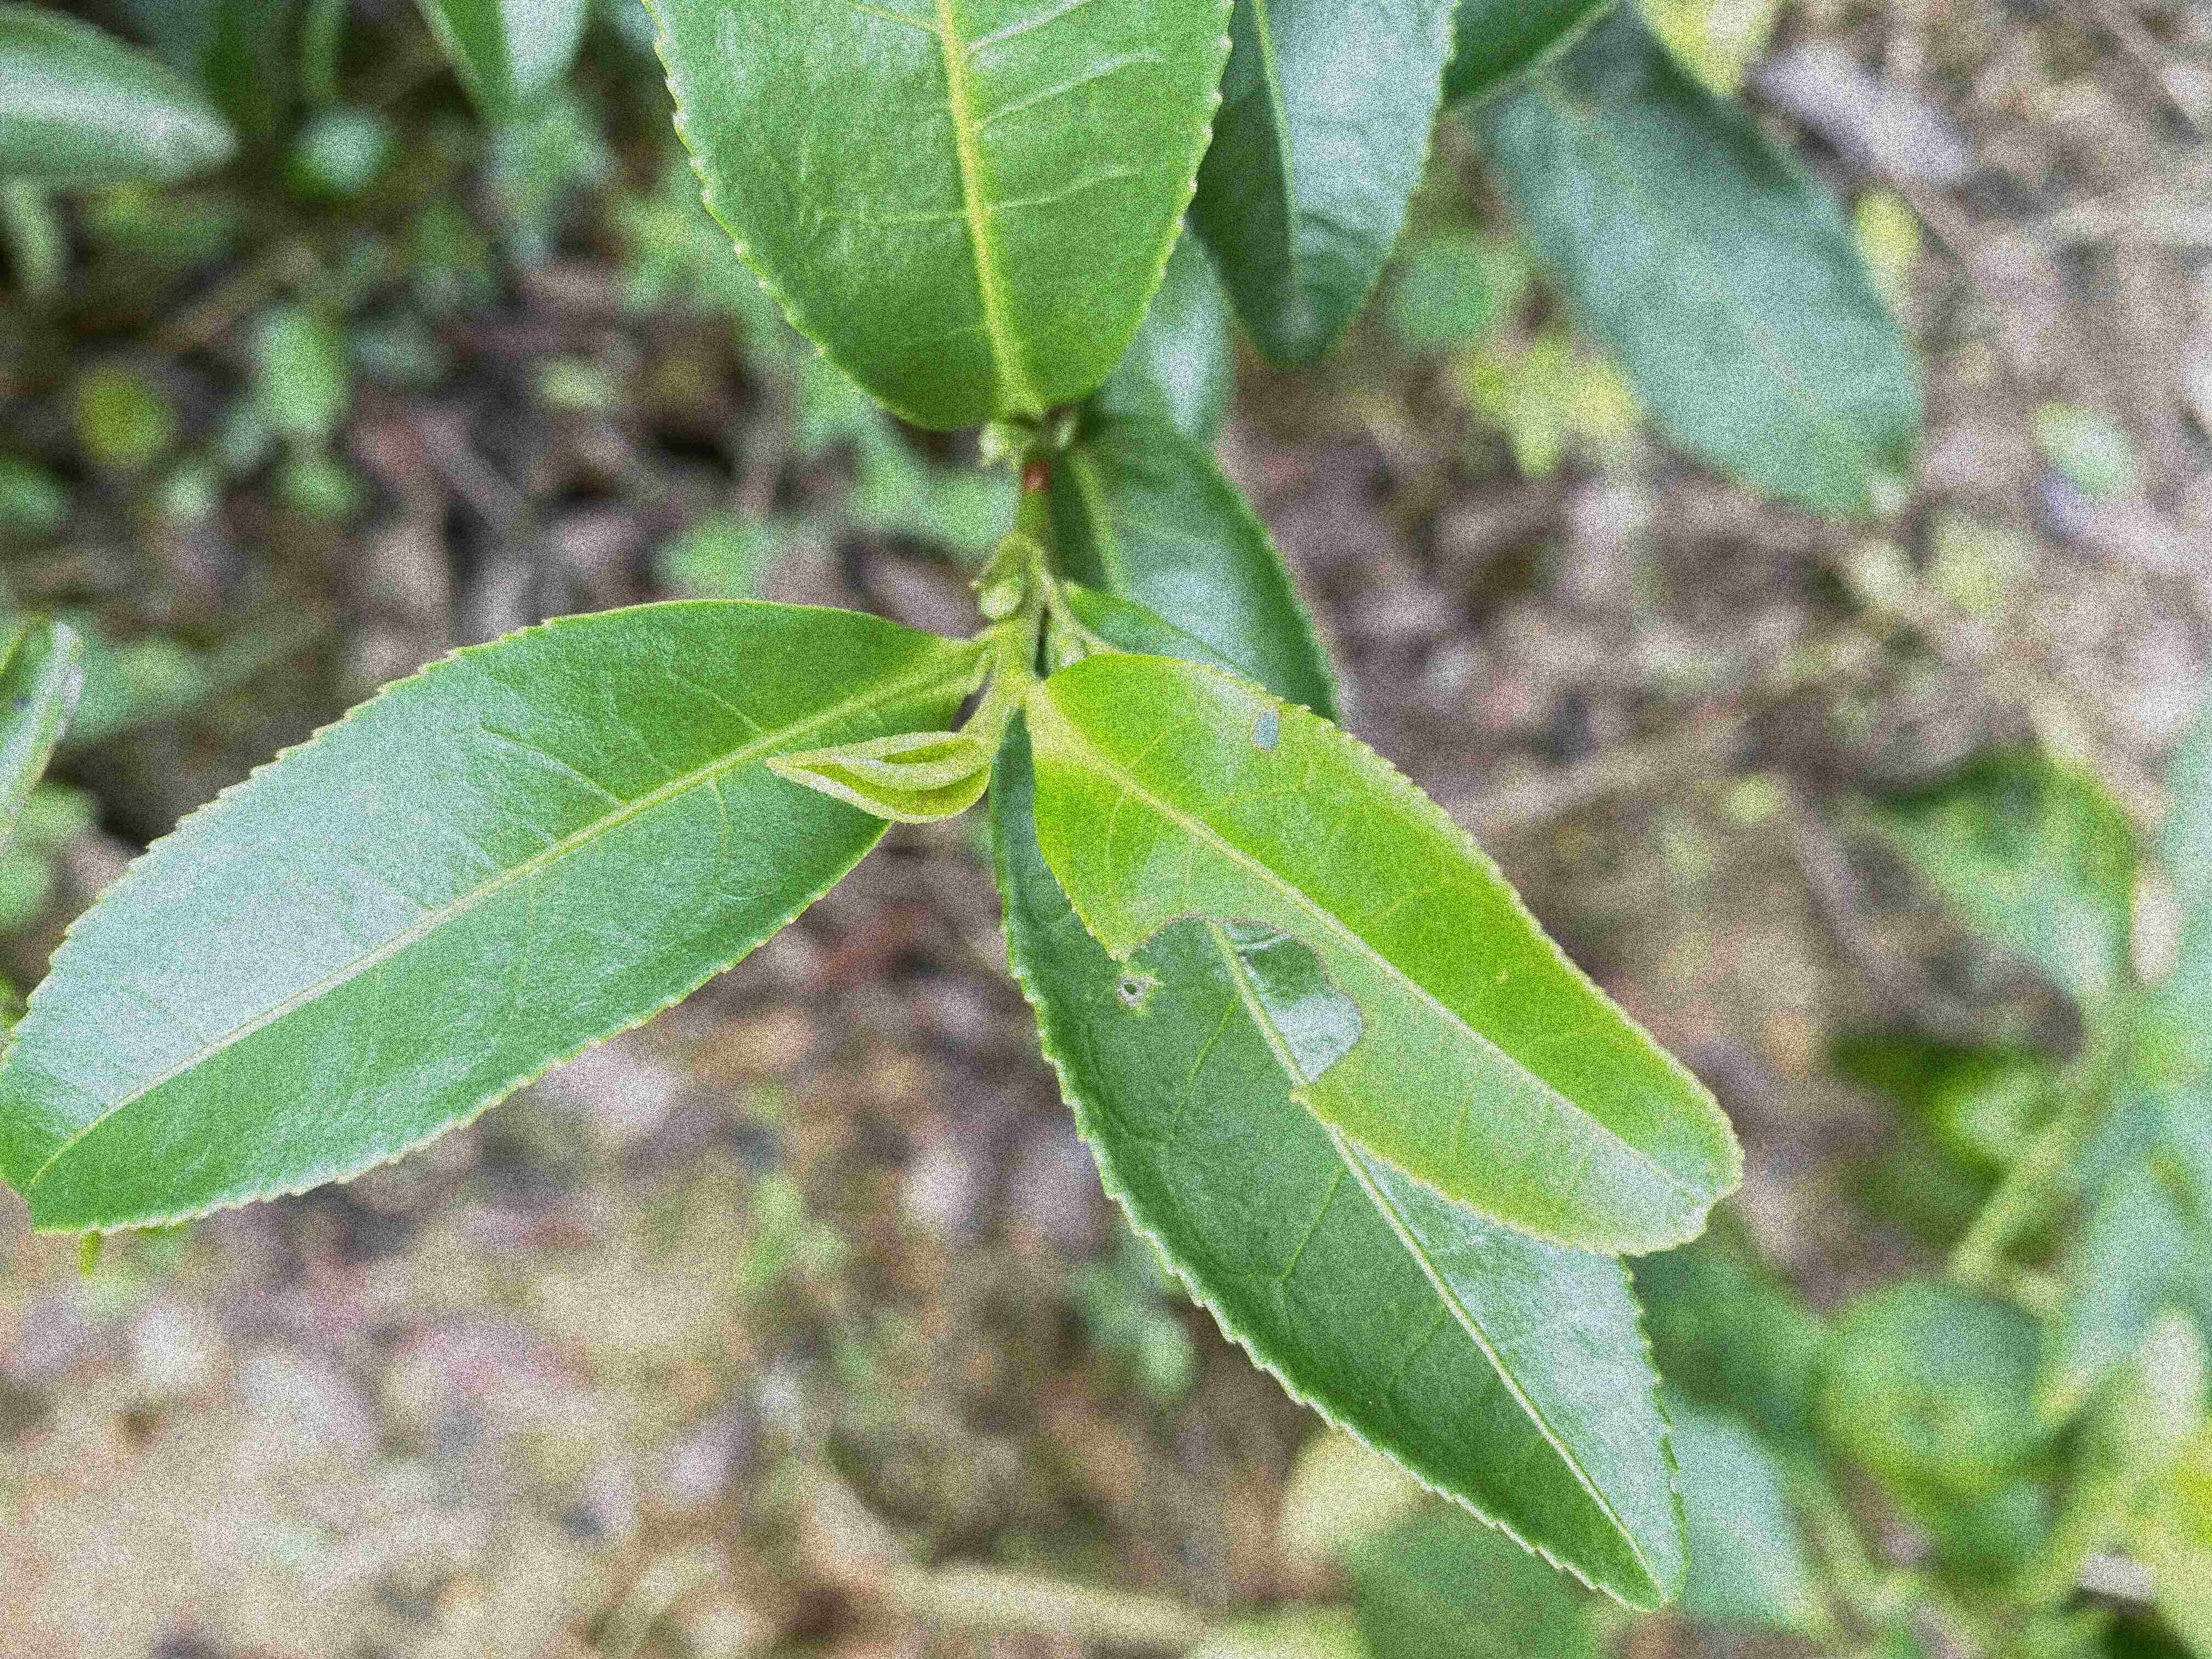chihuo_high: (1021, 650, 1747, 1258)
healthy: (2, 599, 963, 1236), (646, 5, 1237, 436)
tanju_low: (996, 955, 1691, 1617)
